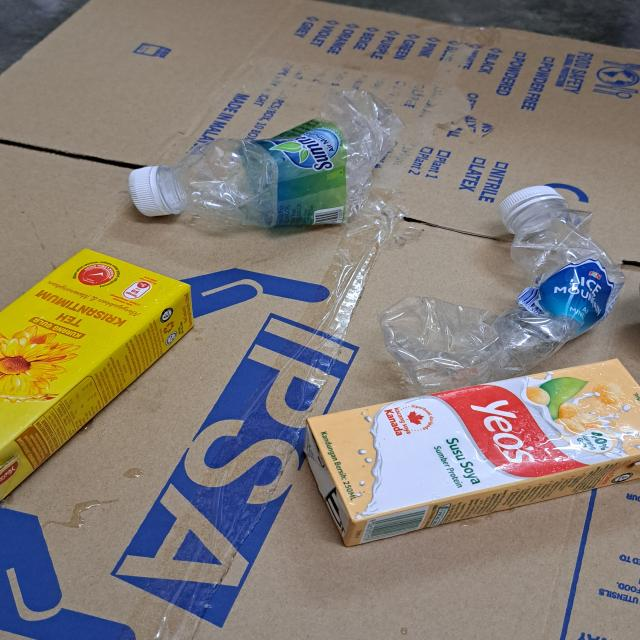cardboard: (0, 0, 640, 640)
drink carton: (302, 358, 640, 546), (0, 248, 194, 506)
plastic bottle: (380, 206, 628, 396), (161, 89, 407, 226)
plastic bottle cap: (496, 185, 565, 222), (128, 166, 170, 218)
